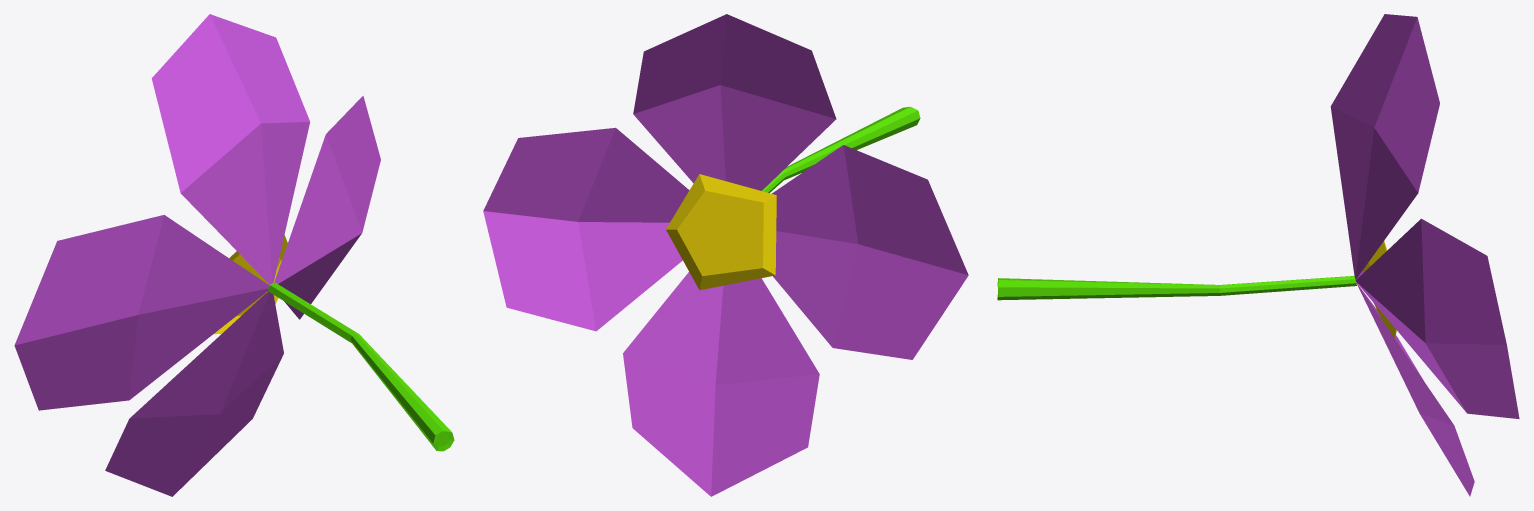
Rendered from flower.001.fbx.
3 views of the same model, side by side, from view 1: azimuth 30°, elevation 25°; view 2: azimuth 150°, elevation 25°; view 3: azimuth 270°, elevation 25° (orthographic). The views are drawn at different scales.
Visible parts, largest first — view 1: Plane; view 2: Plane; view 3: Plane.
Boxes of the visible parts, box(x1,y1,x2,y2) form: Plane: box(14, 14, 454, 496); Plane: box(483, 14, 968, 496); Plane: box(997, 14, 1519, 496).
Bounding box in the file's own units: 118 × 127 × 124.
